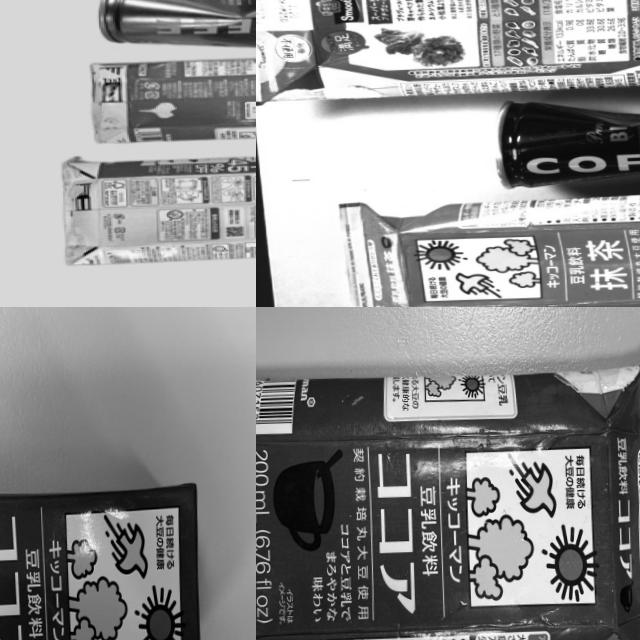Aluminium Foil: (256, 344, 640, 640), (256, 0, 640, 102), (344, 183, 640, 307), (0, 479, 210, 640), (55, 146, 256, 265), (86, 49, 256, 145)
Can: (490, 85, 640, 190), (102, 0, 256, 50)
